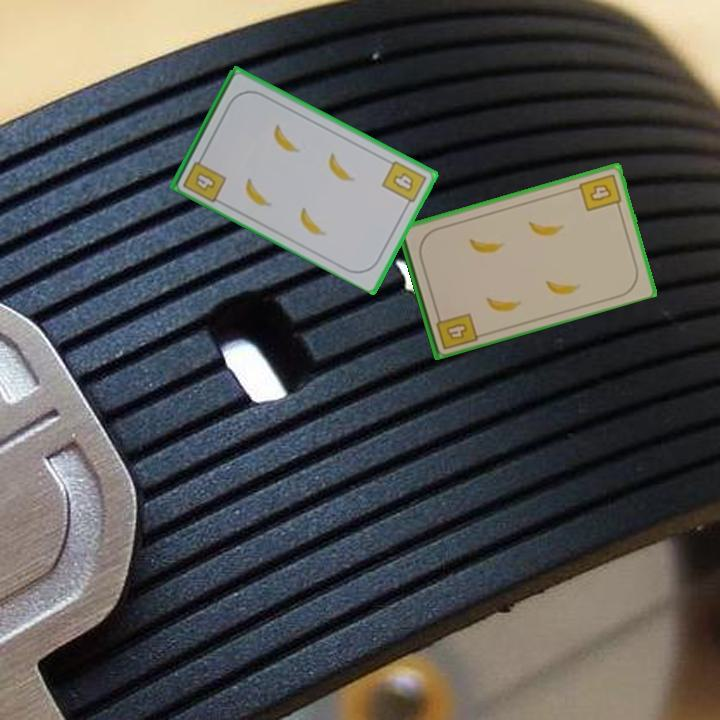4b: (179, 150, 229, 205), (378, 157, 429, 210), (576, 170, 624, 214), (432, 308, 480, 352)
